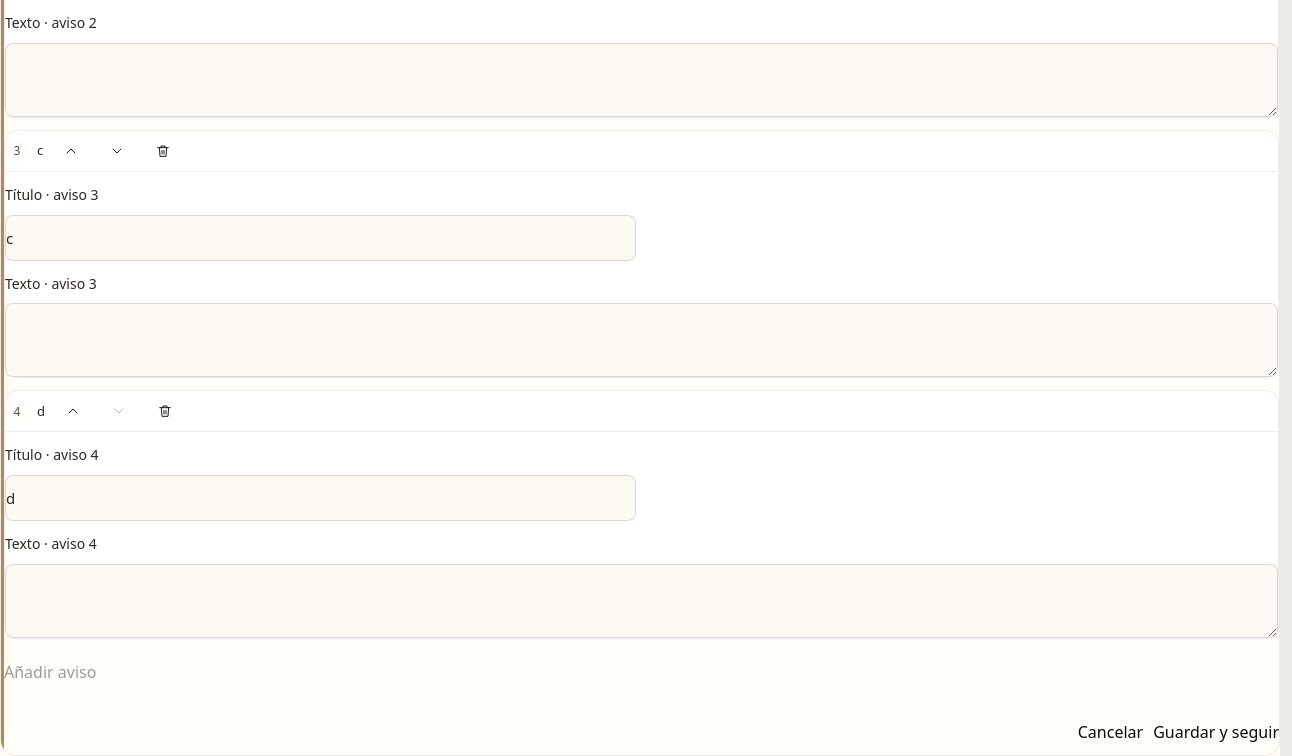
Test: ContentBlockForms › no deja añadir más filas de las que el dominio guarda
This screenshot has width=1292, height=756.
(page scrolled)
Check: the button "Añadir aviso" is disabled, box [4,651,96,695]
Click the button named "Quitar aviso 4" at (165, 411), box [145,391,185,431]
(page scrolled)
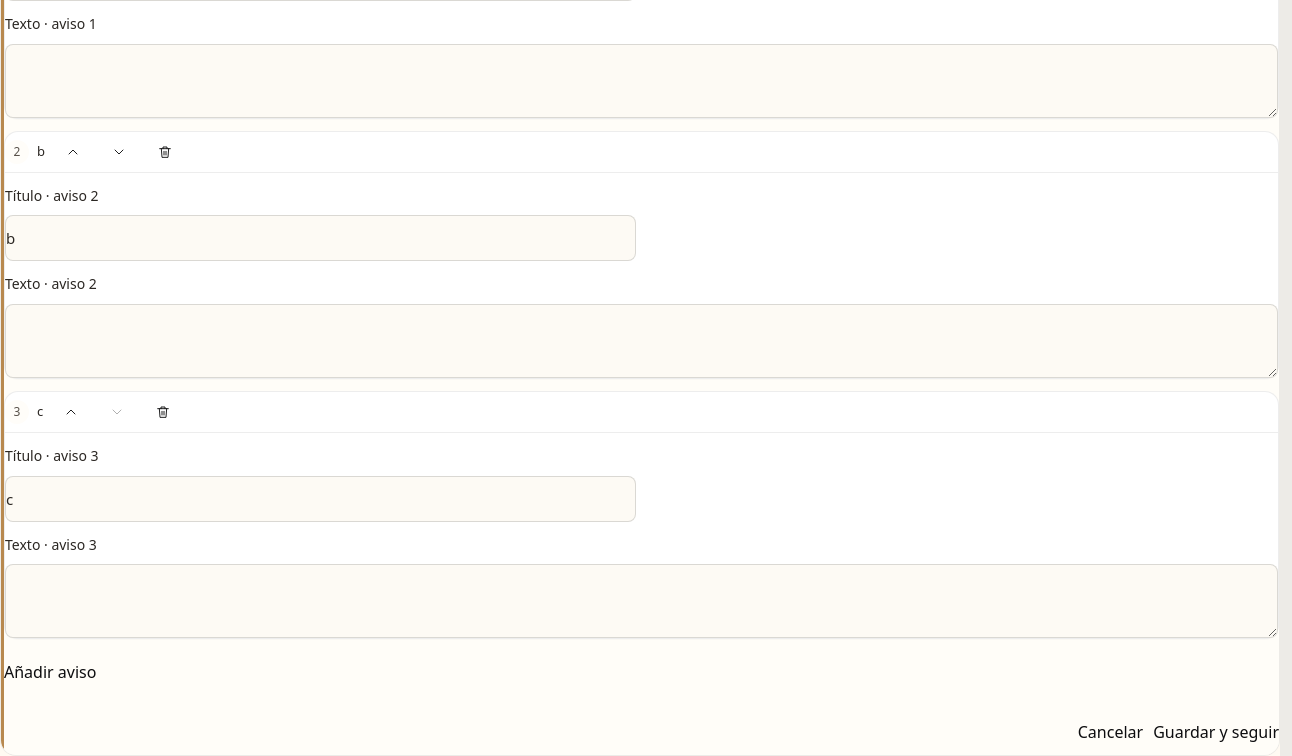
Check: the button "Añadir aviso" is enabled, box [4,651,96,695]
